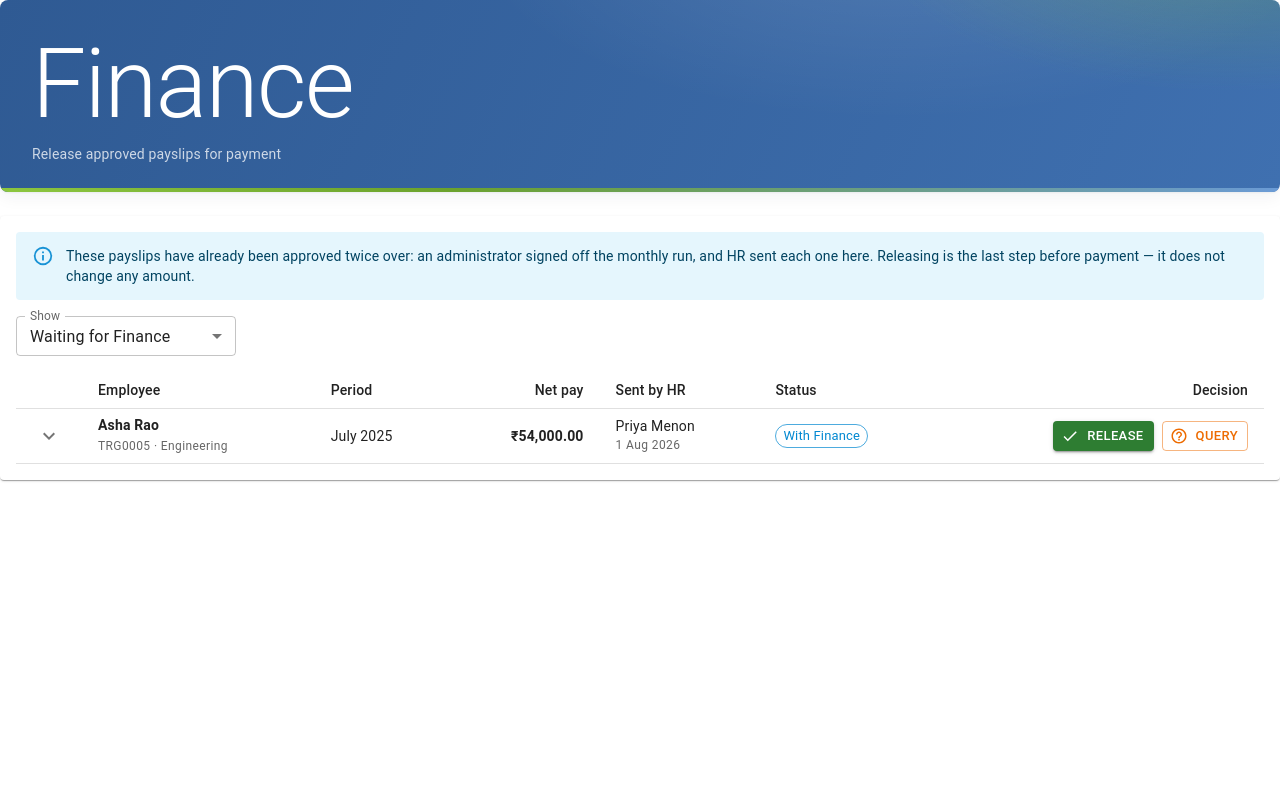
FinancePage › explains that a query goes back to HR rather than ending it
The image size is (1280, 800).
Step 1. Click the button "Query" → (1205, 436), box [1162,421,1248,452]
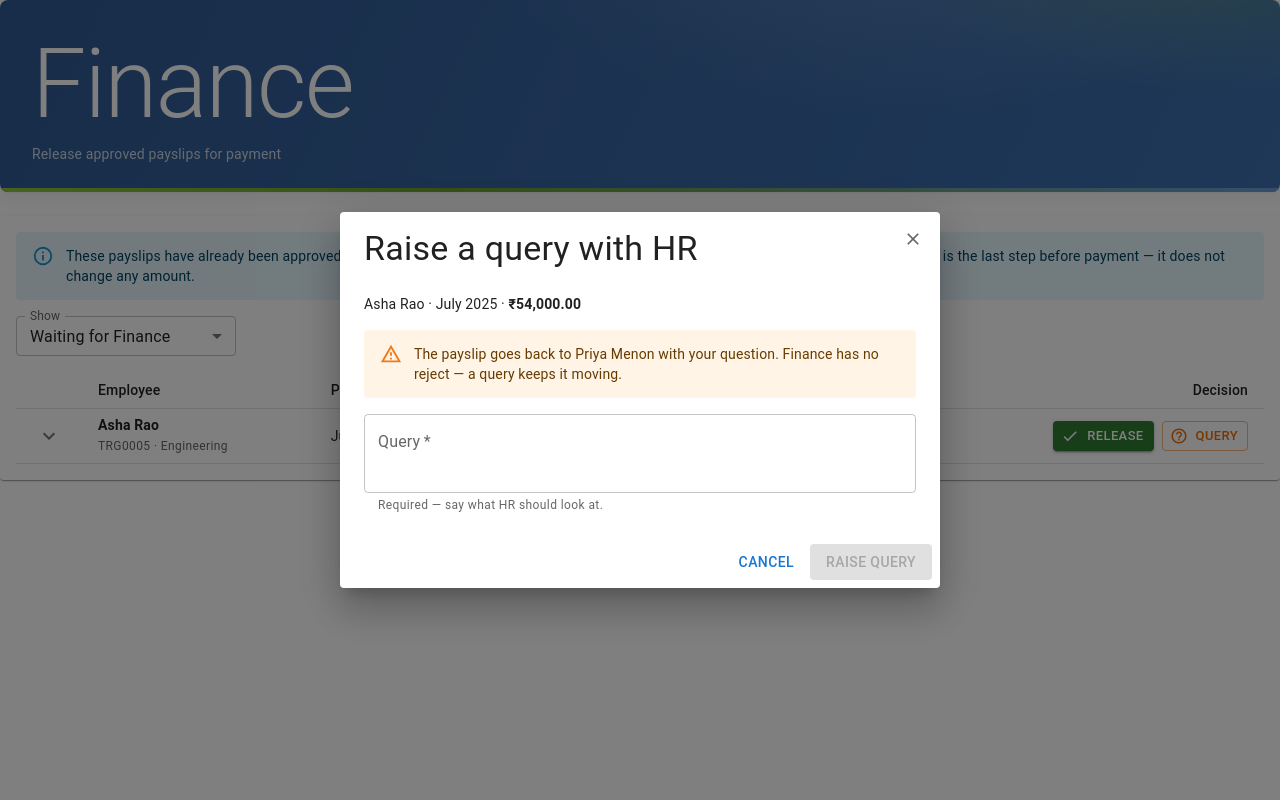
expect the text "goes back to Priya Menon" is shown: met, box [414,336,900,392]
expect the text "no reject" is shown: met, box [414,346,879,382]
